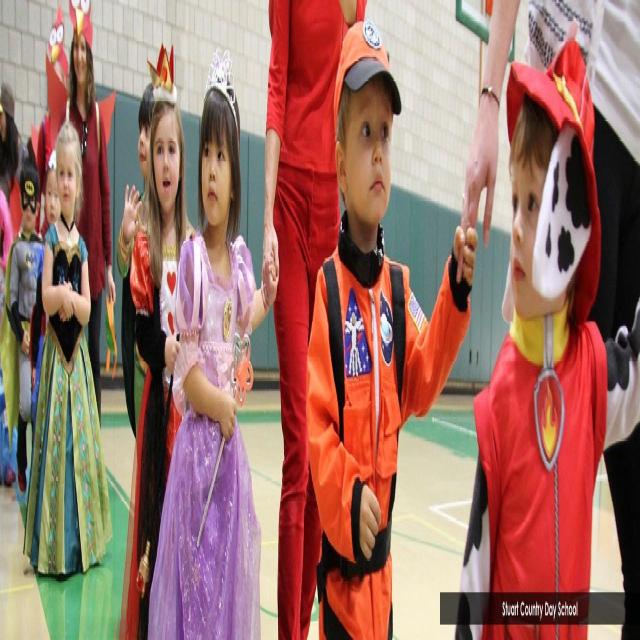body: (451, 0, 640, 640), (451, 26, 639, 639), (301, 9, 479, 638), (142, 32, 282, 638), (261, 0, 369, 640), (116, 39, 200, 638), (20, 116, 114, 584), (63, 0, 117, 431), (8, 152, 46, 496), (117, 80, 155, 275), (0, 186, 17, 494), (0, 76, 30, 189), (40, 144, 60, 244)
